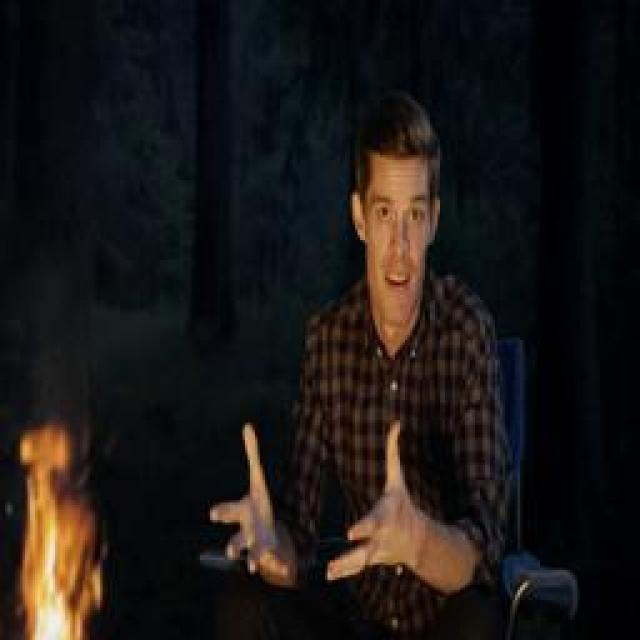Fire: (18, 425, 104, 640)
